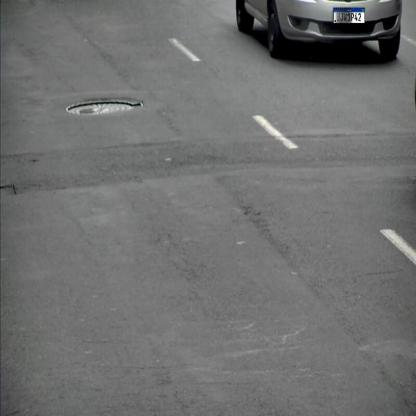PlacaM: (333, 7, 365, 24)
